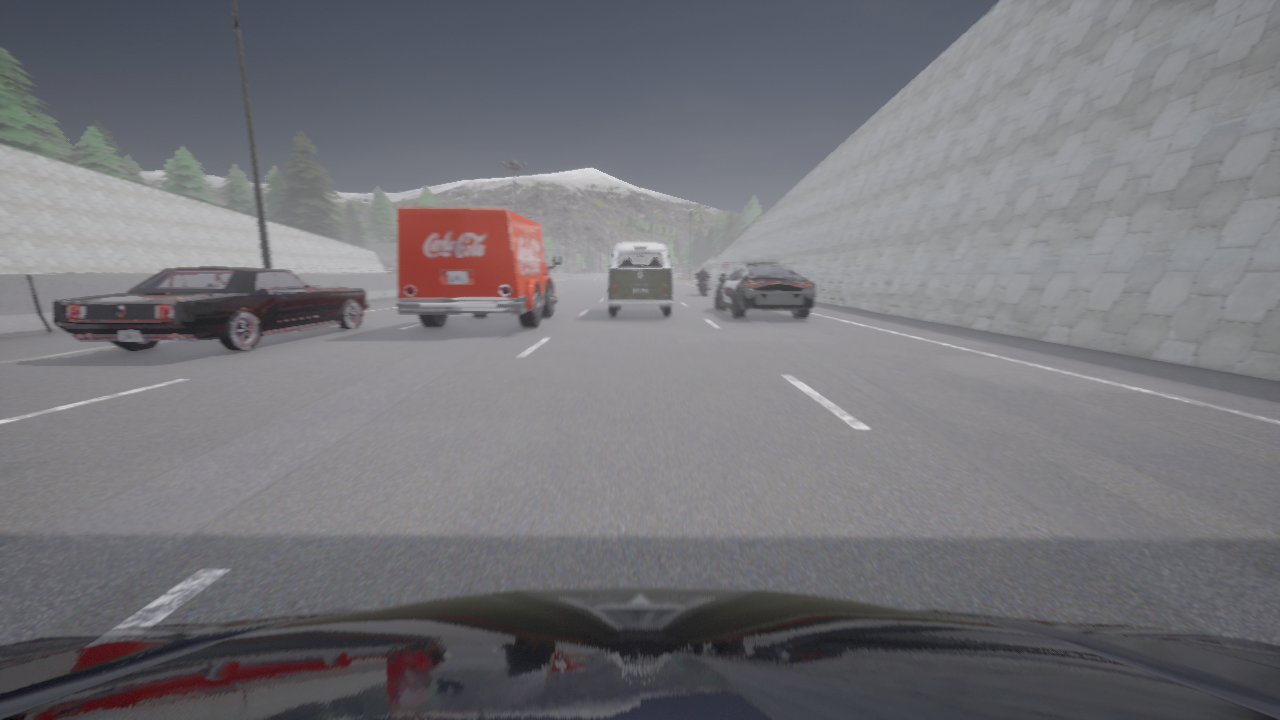cyclist: (0, 588, 1279, 719), (52, 267, 368, 352), (396, 207, 560, 328), (715, 261, 814, 318), (607, 242, 672, 316), (697, 274, 710, 295)
